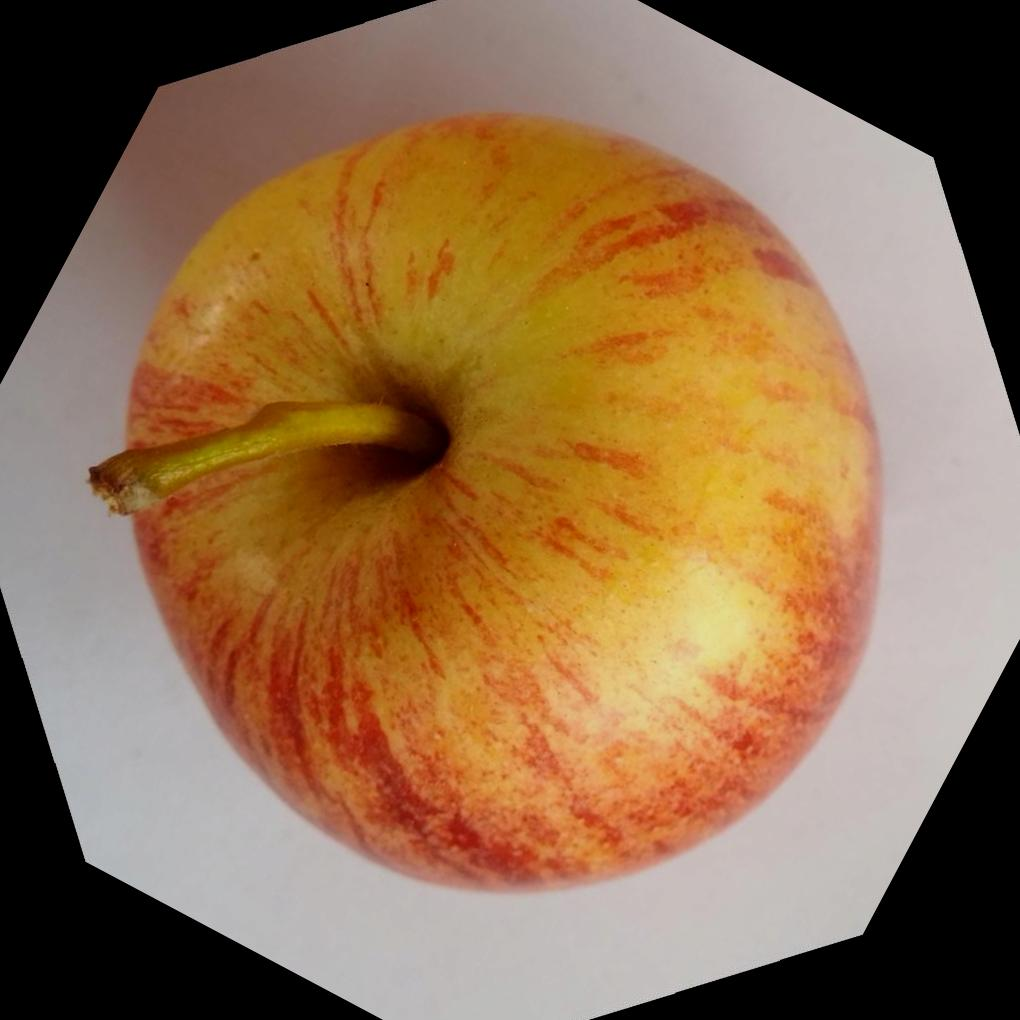FreshGuava: (85, 111, 882, 896)
